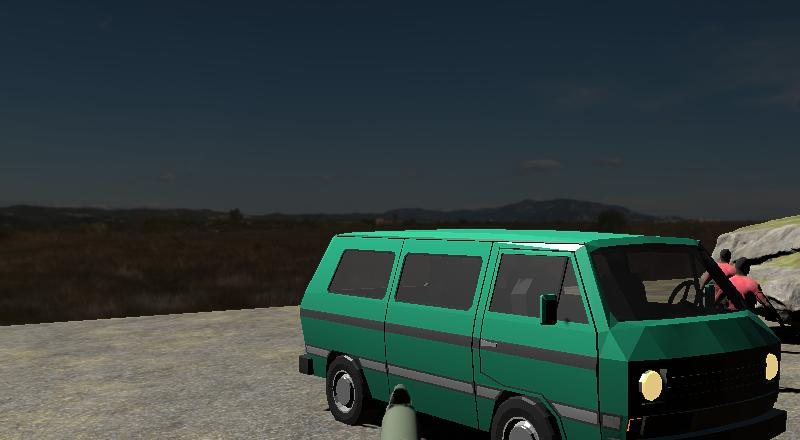car: (298, 229, 788, 440)
